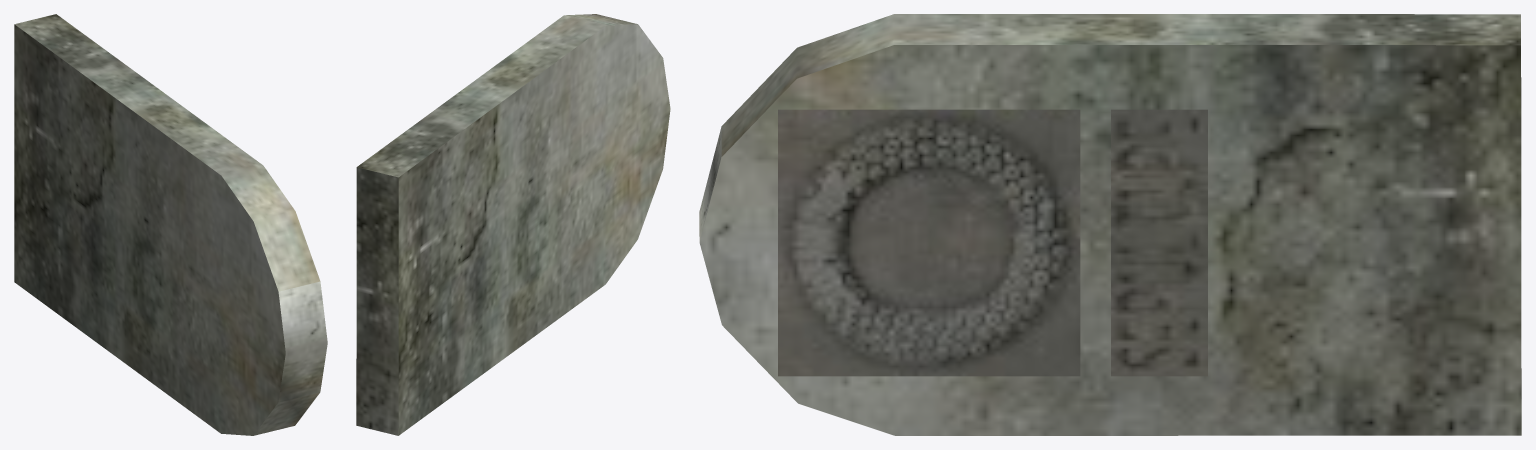
Rendered from prop_tombstone10.glb.
The picture shows the model from 3 angles, left to right: view 1: azimuth 30°, elevation 25°; view 2: azimuth 150°, elevation 25°; view 3: azimuth 270°, elevation 25°; orthographic projection. The views are drawn at different scales.
Size of the model in its own units: 4.18 by 22.45 by 42.78.
Materials: 1 (1 with a texture image).
